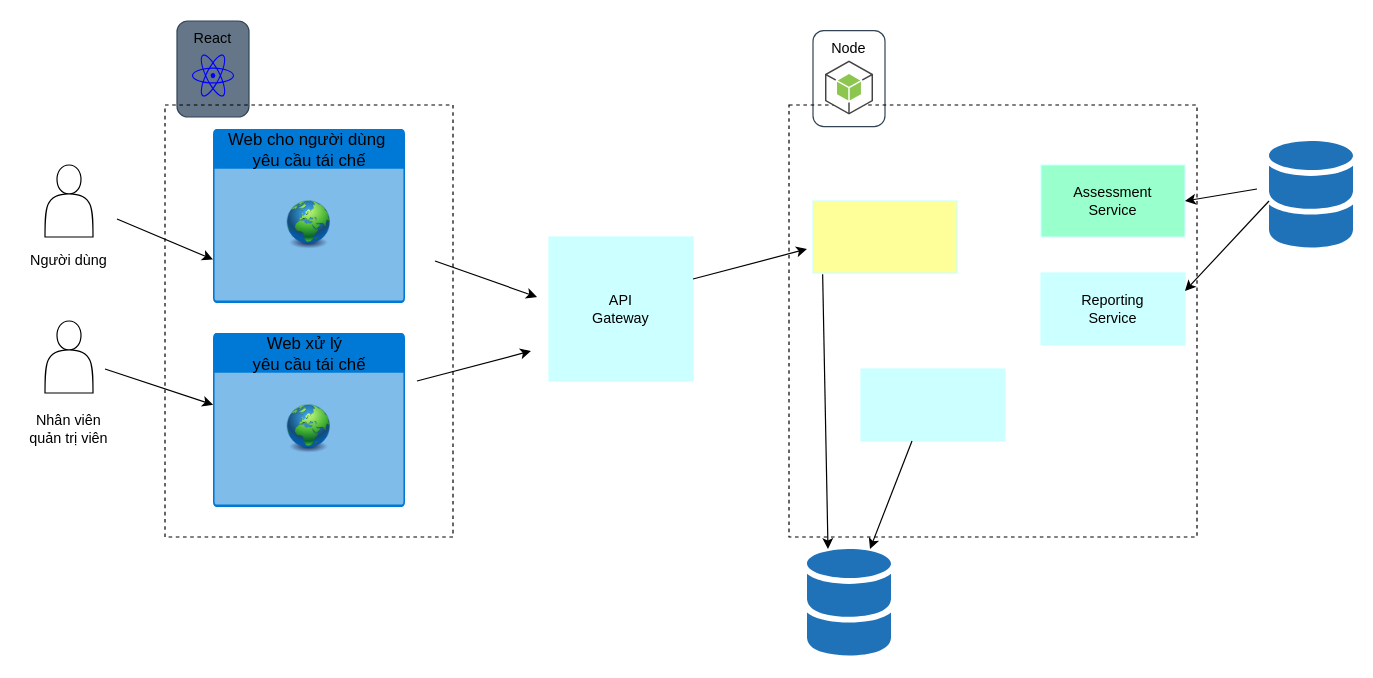
The diagram is 1373 pixels wide and 678 high, and some of its shapes have lost their labels. Each missing label, with the centre of its shape:
"Inquiry Service" belongs at point (932, 404).
"User profile Service" belongs at point (884, 236).
